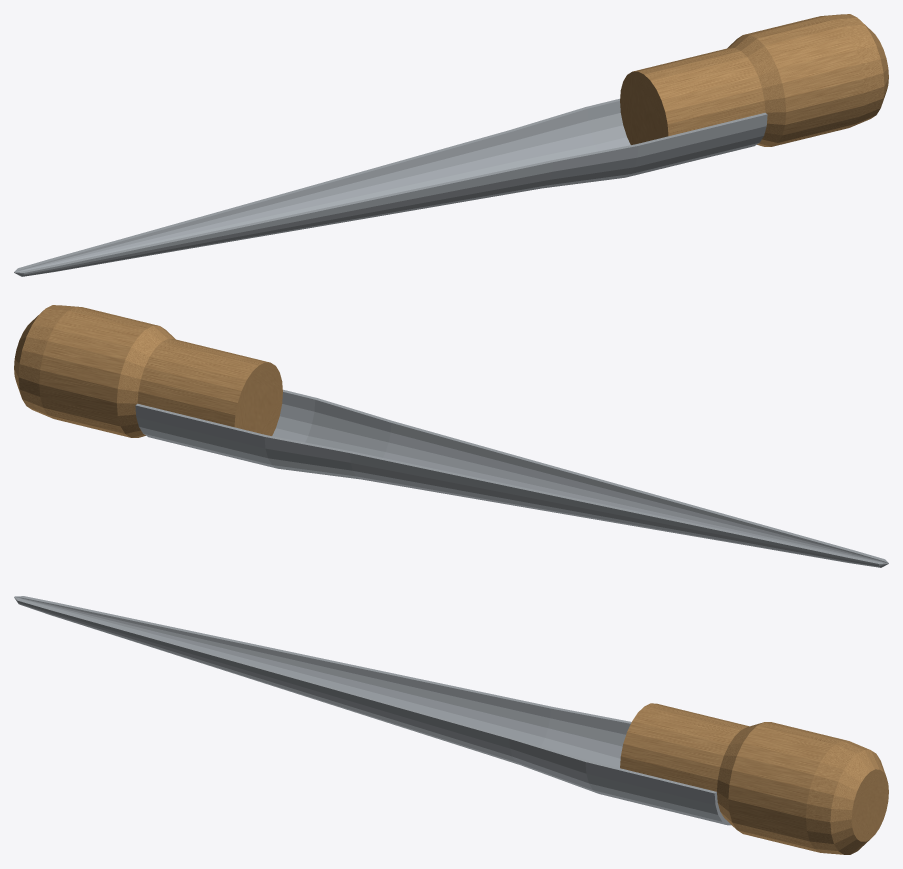
The picture shows the model from 3 angles, top to bottom: view 1: azimuth 30°, elevation 25°; view 2: azimuth 150°, elevation 25°; view 3: azimuth 330°, elevation 25°; orthographic projection.
Visible parts, largest first — view 1: NEW669_StainlessChannel, NEW669_WoodenHandle; view 2: NEW669_StainlessChannel, NEW669_WoodenHandle; view 3: NEW669_StainlessChannel, NEW669_WoodenHandle.
Boxes of the visible parts, x1,y1,x2,y2 form: NEW669_StainlessChannel: [14, 98, 767, 276]; NEW669_WoodenHandle: [620, 14, 888, 146]; NEW669_StainlessChannel: [135, 389, 888, 567]; NEW669_WoodenHandle: [14, 305, 282, 437]; NEW669_StainlessChannel: [14, 596, 731, 825]; NEW669_WoodenHandle: [620, 703, 888, 854].
Bounding box in the file's own units: 0.265 × 0.031 × 0.031.
Materials: 2 (1 with a texture image).
